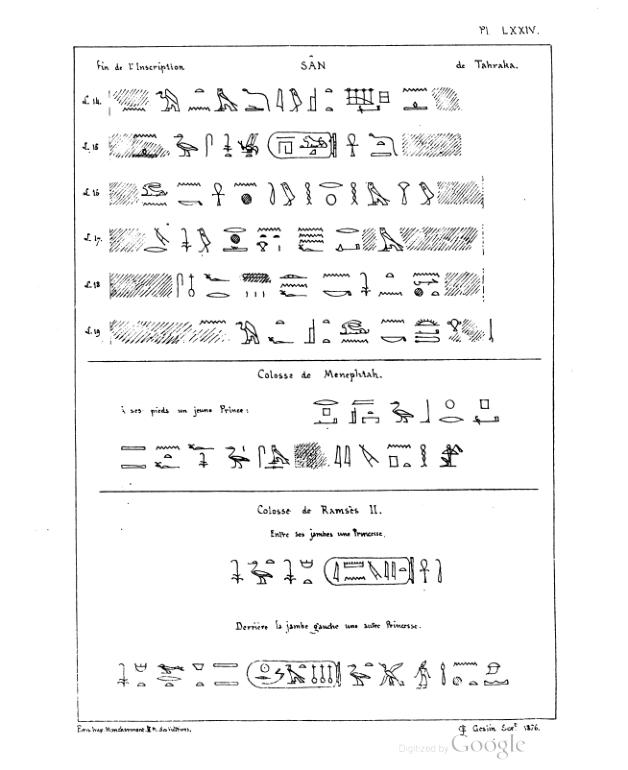circle: (244, 654, 345, 690), (323, 553, 418, 590), (265, 129, 340, 161)
